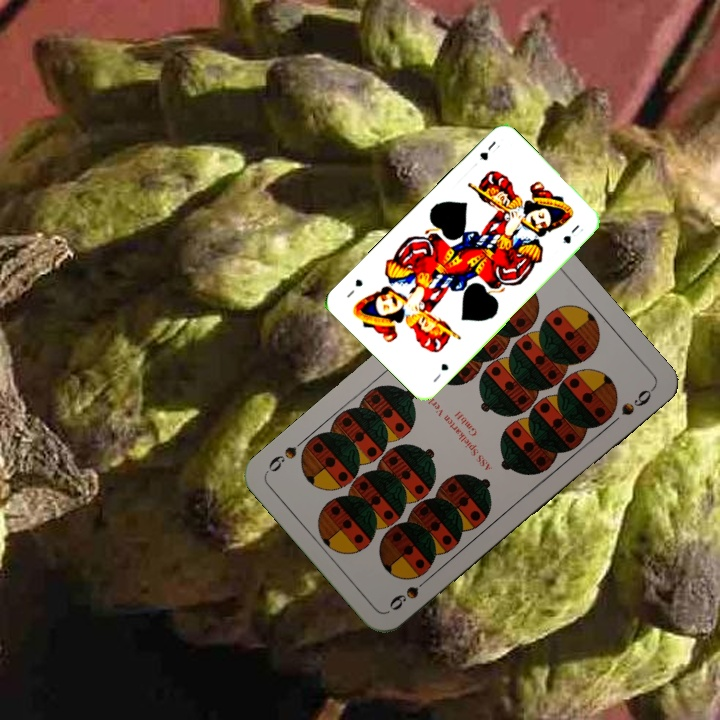GU: (475, 137, 503, 163), (429, 359, 451, 385)
S9: (385, 571, 435, 613)
